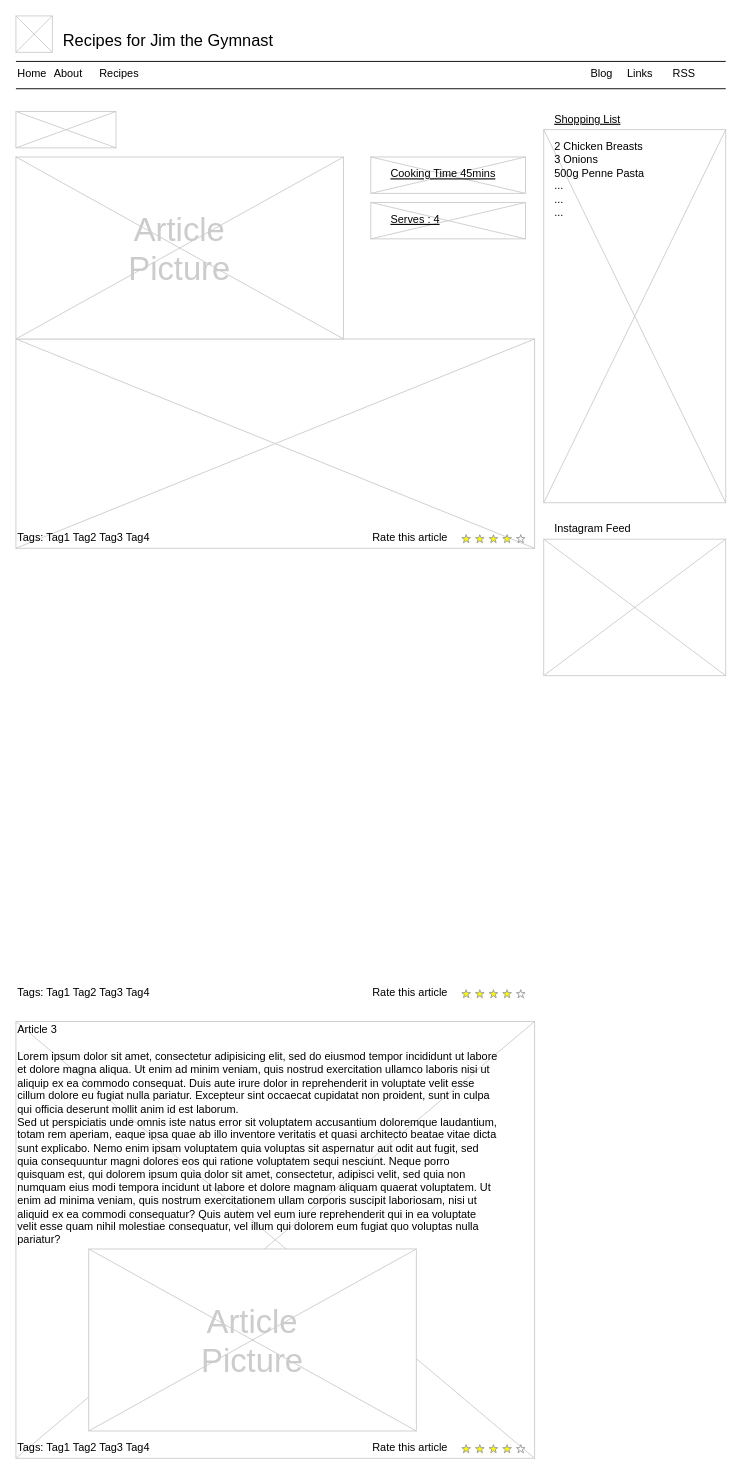
Some shapes in this 742 by 1474 pixel diagram are drawn without their labels. The shapes that lost their labels are listed below. From the top down, each one's centre as x and y in pixels, then its label:
At point 33,33: "Blog Logo".
At point 65,129: "Recipe Name".
